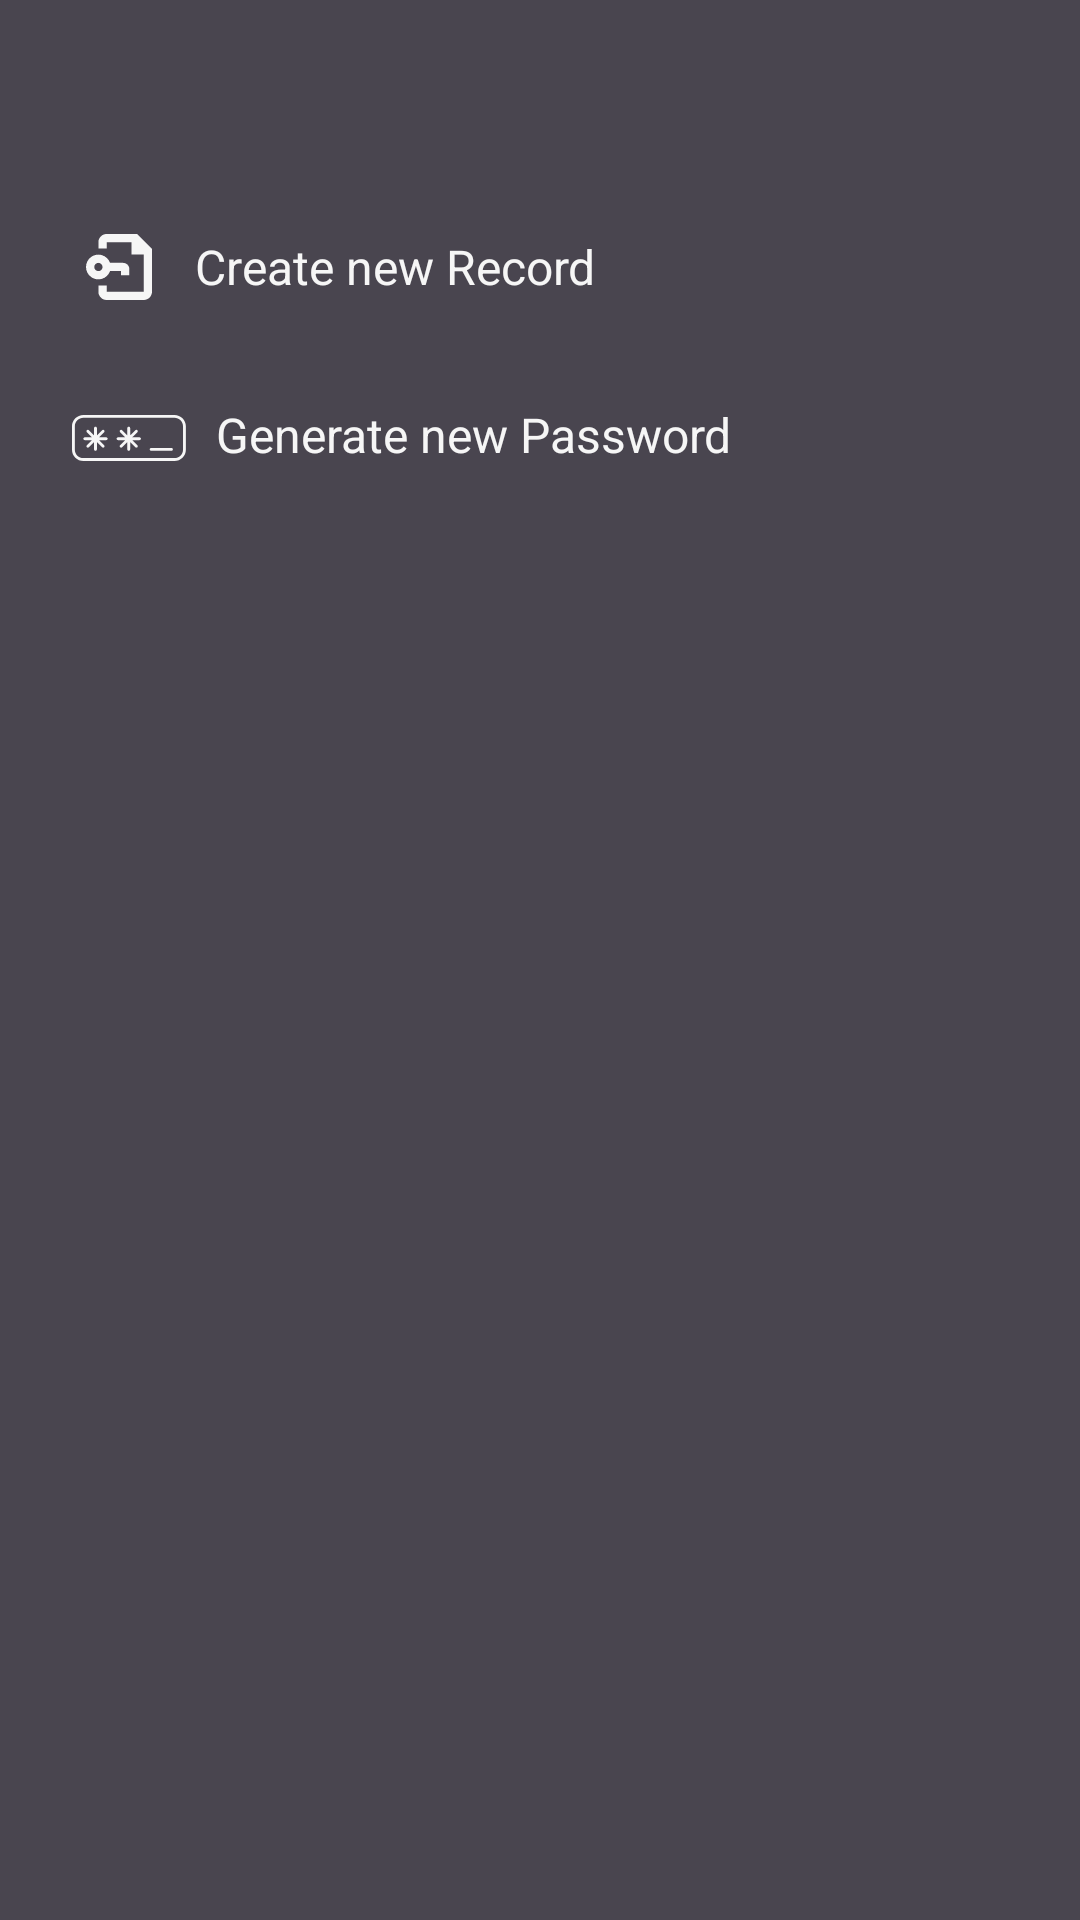

Where icons sit on this 1080px x 1920px app screen, as (x1, y1, x2, y2):
generate psw: (72, 415, 186, 461)
secure file: (86, 234, 152, 300)
